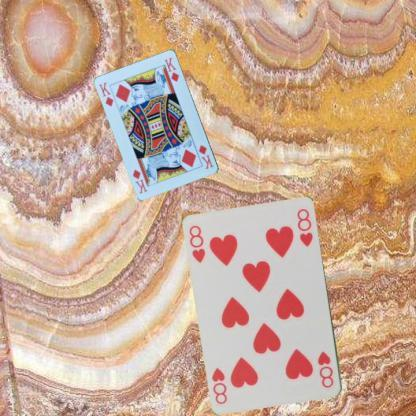8h: (186, 222, 206, 264), (315, 349, 335, 389)
Kd: (196, 142, 215, 171), (96, 79, 115, 108)
